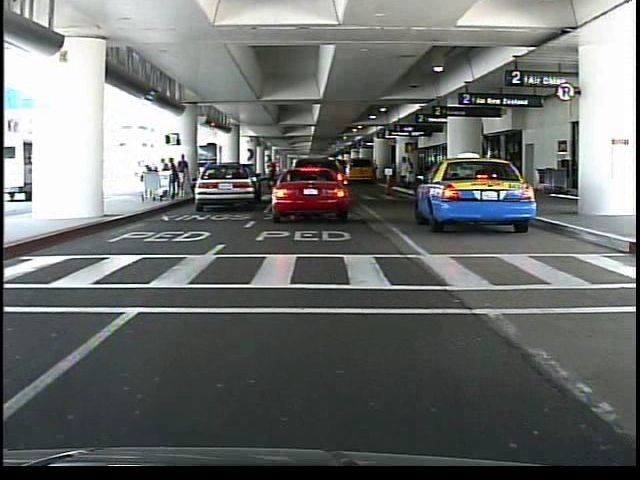person: (333, 156, 346, 202), (180, 154, 193, 199), (398, 157, 411, 192), (317, 166, 328, 202), (267, 157, 280, 187), (411, 156, 412, 191)
